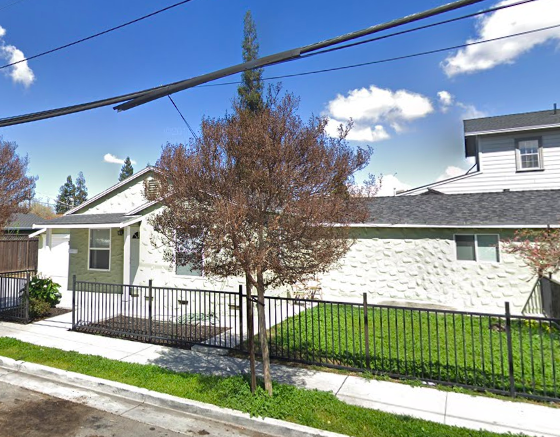tree: (143, 90, 385, 394)
